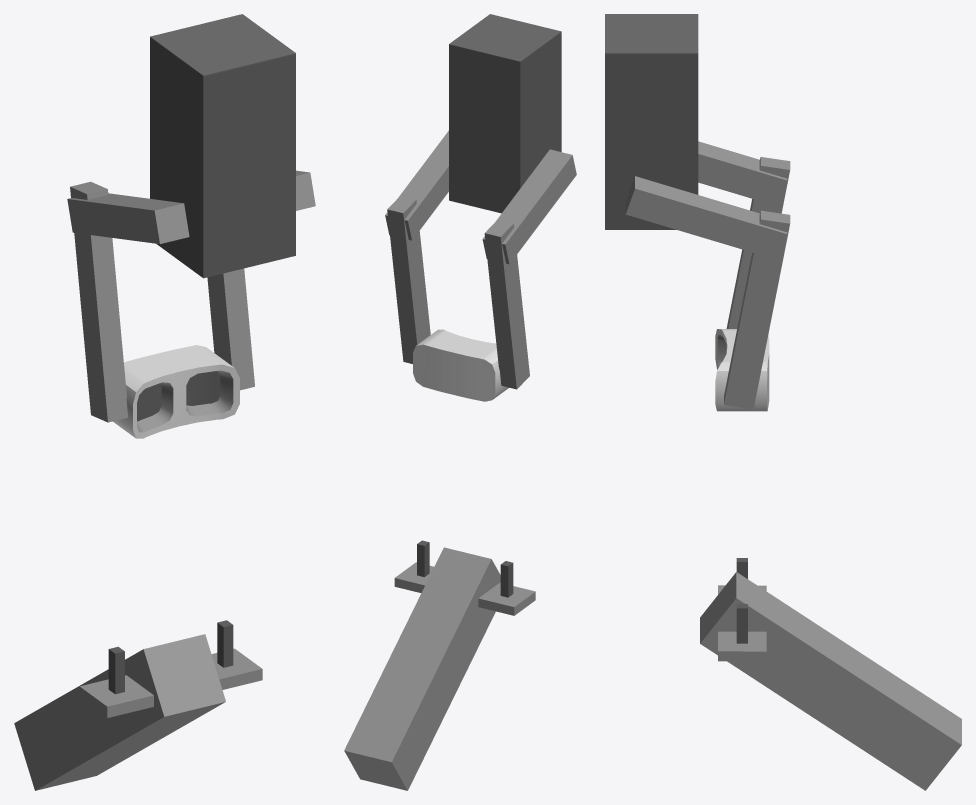
File: SM_Drone_Control_Goggles.fbx
3 renders of one model, left to right at view 1: azimuth 30°, elevation 25°; view 2: azimuth 150°, elevation 25°; view 3: azimuth 270°, elevation 25°, orthographic. The views are drawn at different scales.
Visible parts, largest first — view 1: Drone Socket, Drone Controller, Drone Goggles Holder 2, Drone Goggles, Drone Goggles Holder; view 2: Drone Controller, Drone Socket, Drone Goggles Holder 2, Drone Goggles Holder, Drone Goggles; view 3: Drone Controller, Drone Socket, Drone Goggles Holder, Drone Goggles Holder 2, Drone Goggles.
Part boxes in pixels (x1,y1,x2,y2): Drone Socket: [150, 14, 295, 278]; Drone Controller: [14, 620, 262, 790]; Drone Goggles Holder 2: [70, 181, 254, 422]; Drone Goggles: [113, 345, 239, 438]; Drone Goggles Holder: [67, 170, 315, 243]; Drone Controller: [344, 540, 535, 790]; Drone Socket: [449, 14, 561, 213]; Drone Goggles Holder 2: [387, 196, 529, 389]; Drone Goggles Holder: [385, 130, 576, 264]; Drone Goggles: [413, 329, 508, 401]; Drone Controller: [700, 558, 961, 790]; Drone Socket: [605, 14, 698, 229]; Drone Goggles Holder: [625, 141, 787, 259]; Drone Goggles Holder 2: [724, 157, 790, 409]; Drone Goggles: [715, 329, 769, 411].
Size of the model in its own units: 0.9279 by 4.86 by 2.11.
Materials: 1 (1 with a texture image).
